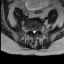CCS_severe_stenosis: (33, 28, 34, 35)
LFS_severe_stenosis: (36, 28, 38, 32)
LLS_stenosis: (34, 28, 36, 34)
RFS_severe_stenosis: (29, 28, 32, 32)
RLS_severe_stenosis: (31, 28, 33, 33)
